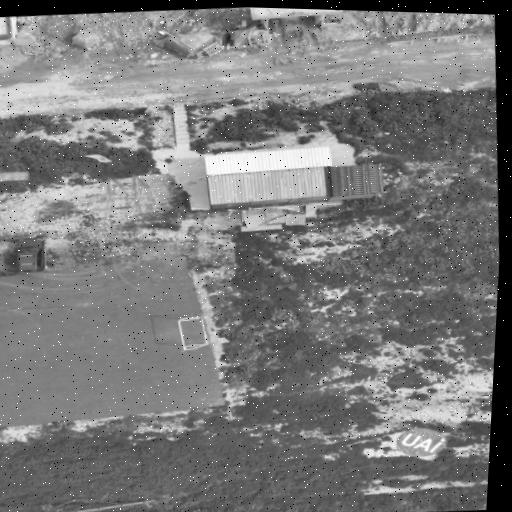car: (15, 238, 45, 273)
person: (482, 392, 491, 397)
uai: (396, 428, 446, 457)
